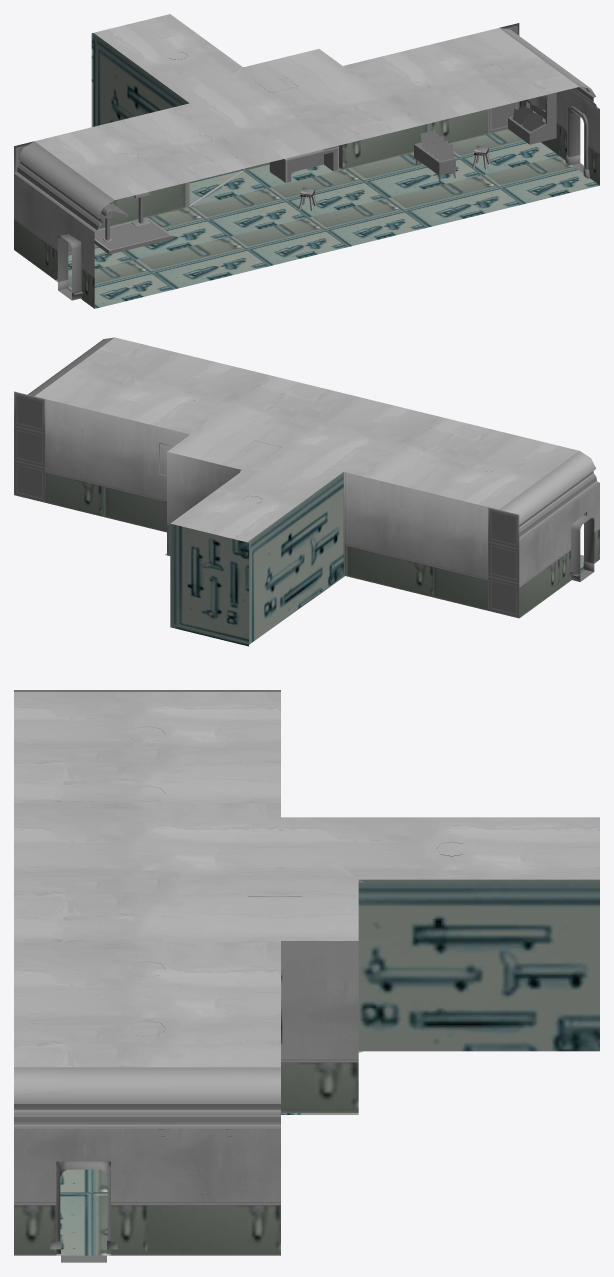
The model's file is MSH_Radio_station_room_L1_R3_optimized.fbx.
The picture shows the model from 3 angles, top to bottom: view 1: azimuth 30°, elevation 25°; view 2: azimuth 150°, elevation 25°; view 3: azimuth 270°, elevation 25°; orthographic projection. The views are drawn at different scales.
Parts seen in each view (by area): view 1: lightmap0; view 2: lightmap0; view 3: lightmap0.
Boxes of the visible parts, x1,y1,x2,y2 form: lightmap0: [14, 14, 599, 308]; lightmap0: [14, 337, 599, 646]; lightmap0: [14, 690, 599, 1262].
Bounding box in the file's own units: 30.91 × 5.92 × 18.13.
